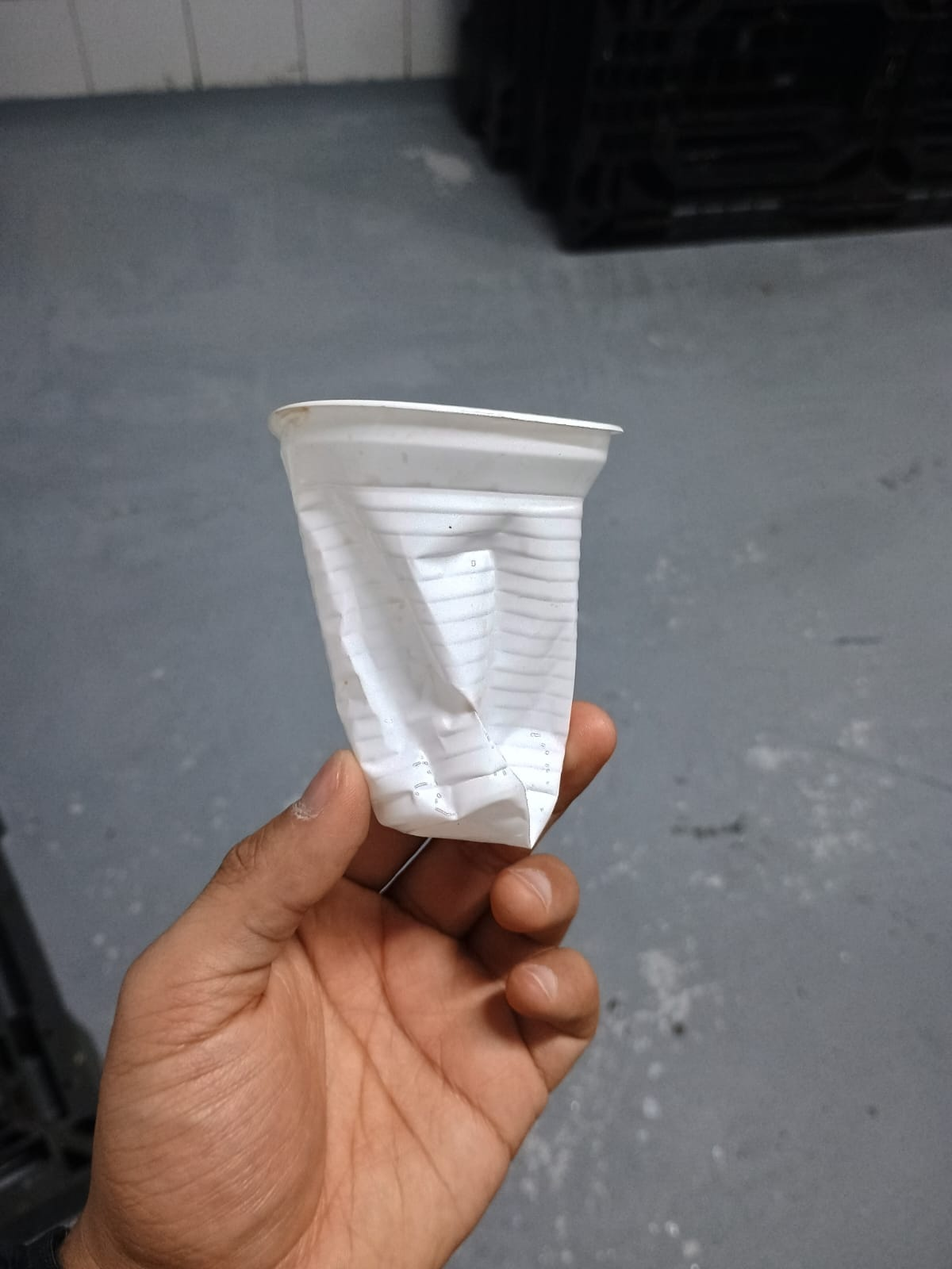Plastico: (267, 389, 627, 857)
